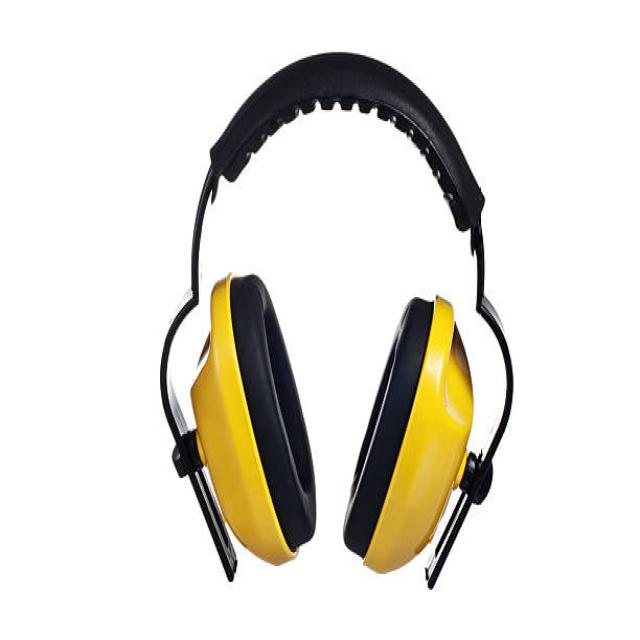Ear-protection: (133, 49, 538, 606)
